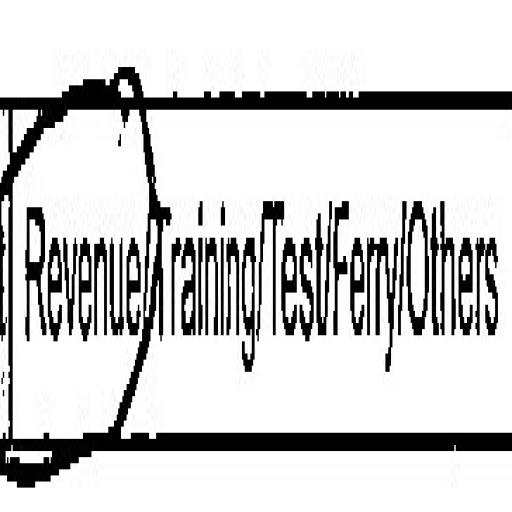check: (8, 0, 147, 512)
